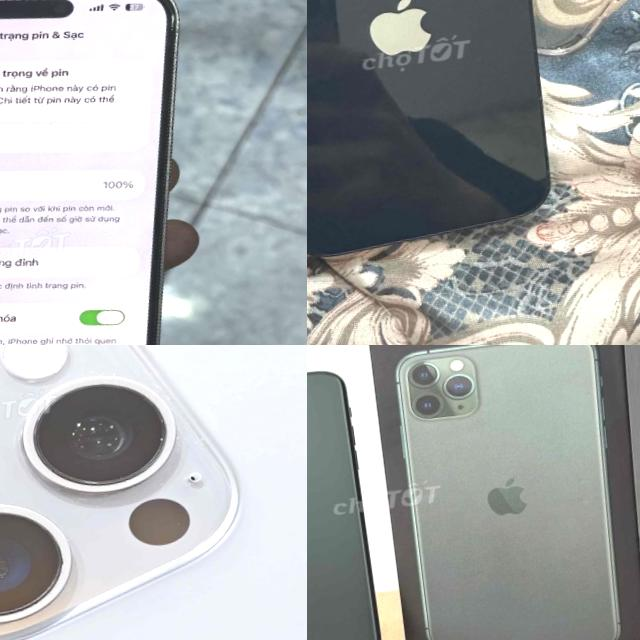gen_11: (307, 354, 395, 640)
gen_12_13: (307, 0, 564, 270)
gen_14: (0, 0, 235, 345)
gen_16: (0, 345, 307, 640)
